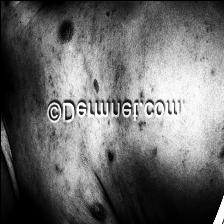Toxin: (88, 76, 106, 94), (105, 146, 117, 162), (137, 117, 149, 131), (4, 76, 14, 91), (134, 88, 150, 97)
